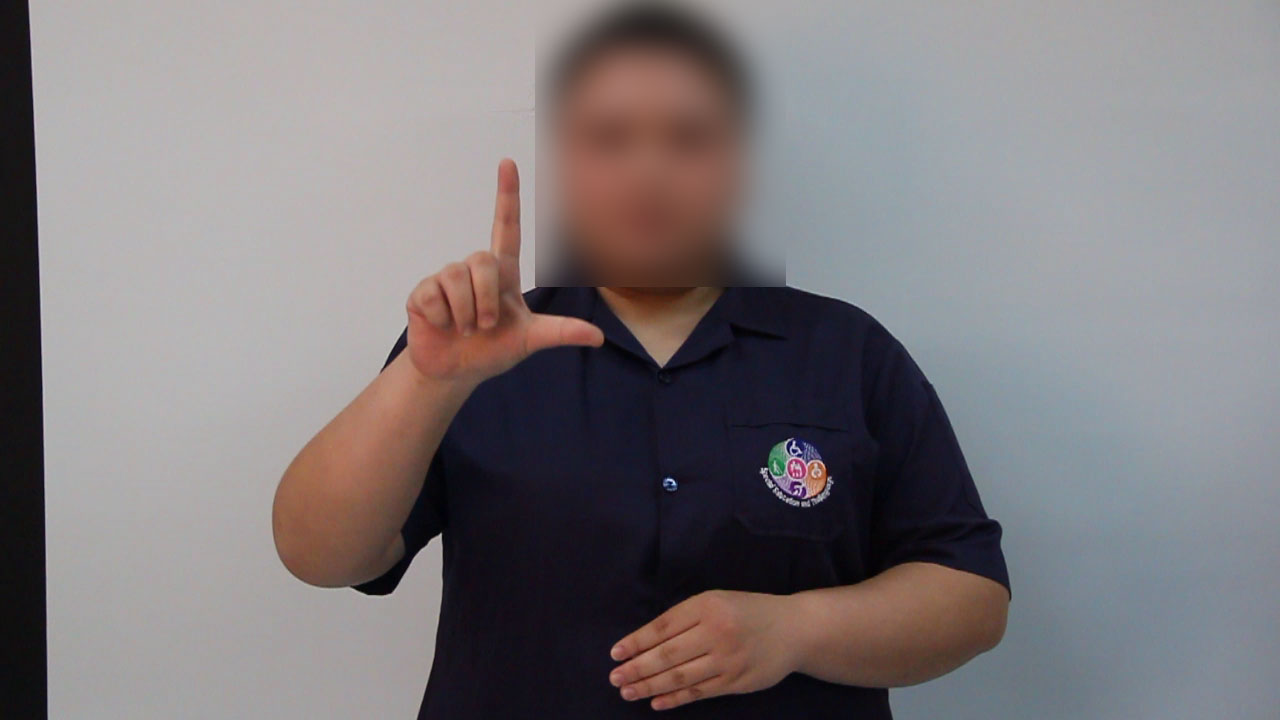lor: (329, 116, 620, 392)
